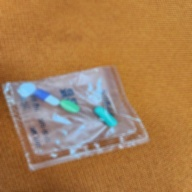러키펜정: (19, 83, 36, 95)
씨엠지세파클러캡슐: (35, 90, 61, 106)
에르도캡슐: (93, 106, 118, 128)
휴티렌정: (59, 99, 80, 114)
